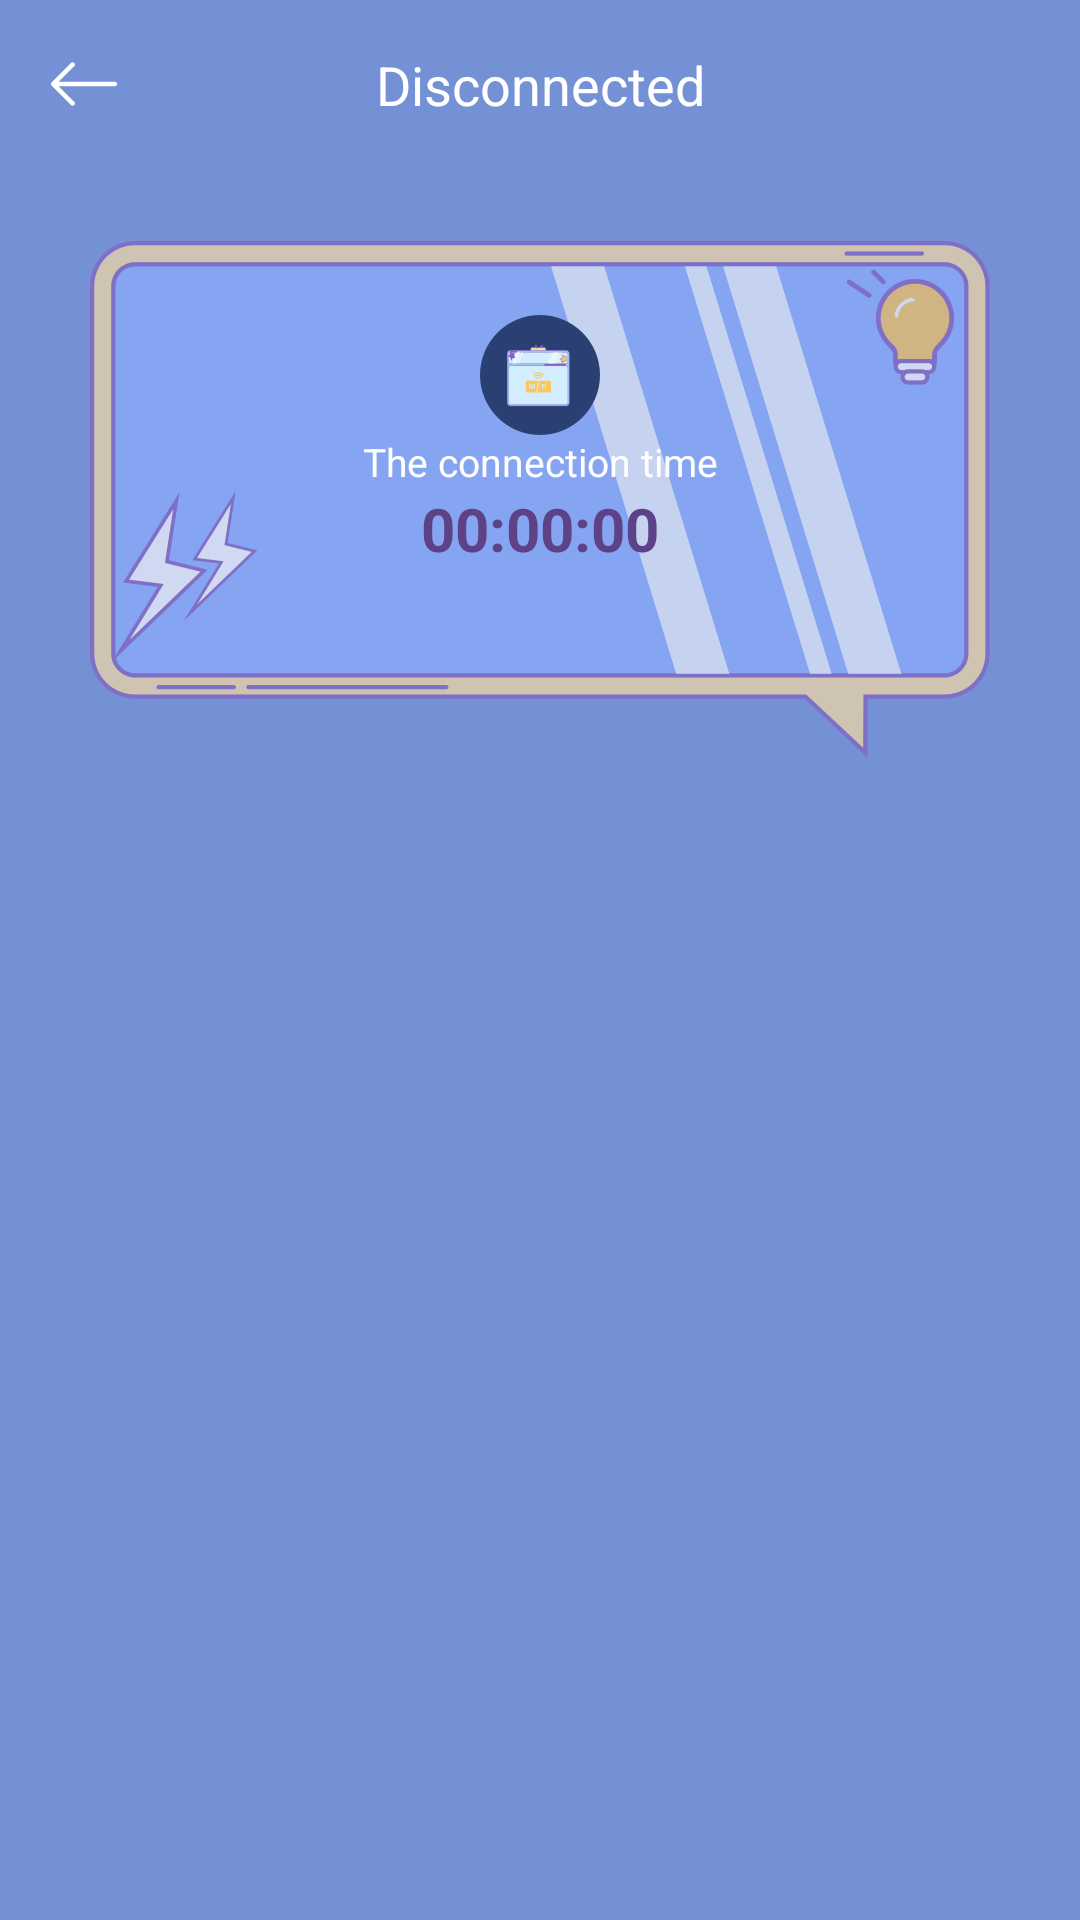

Named icons in this screenshot (1080 × 1920) and their centers, (x,y):
back: (84,84)
